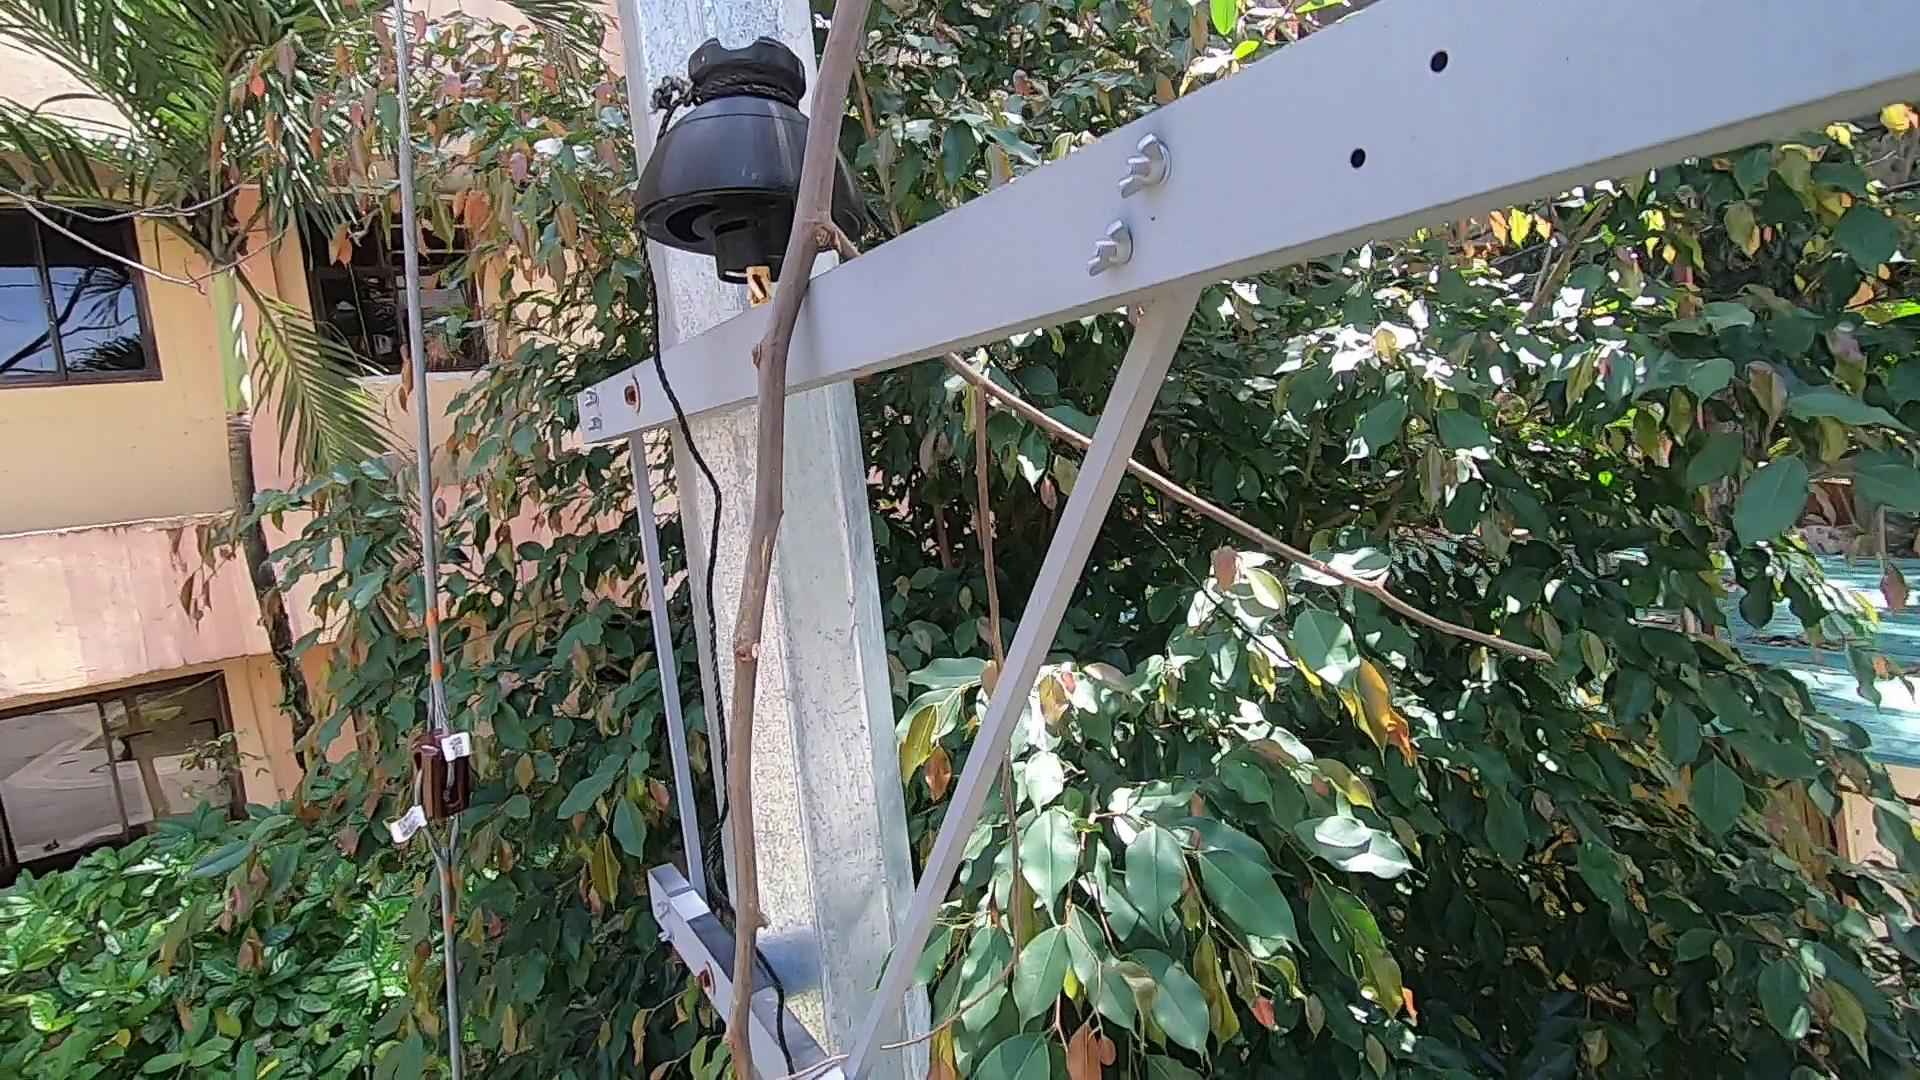tree branch: (626, 1, 869, 1077)
